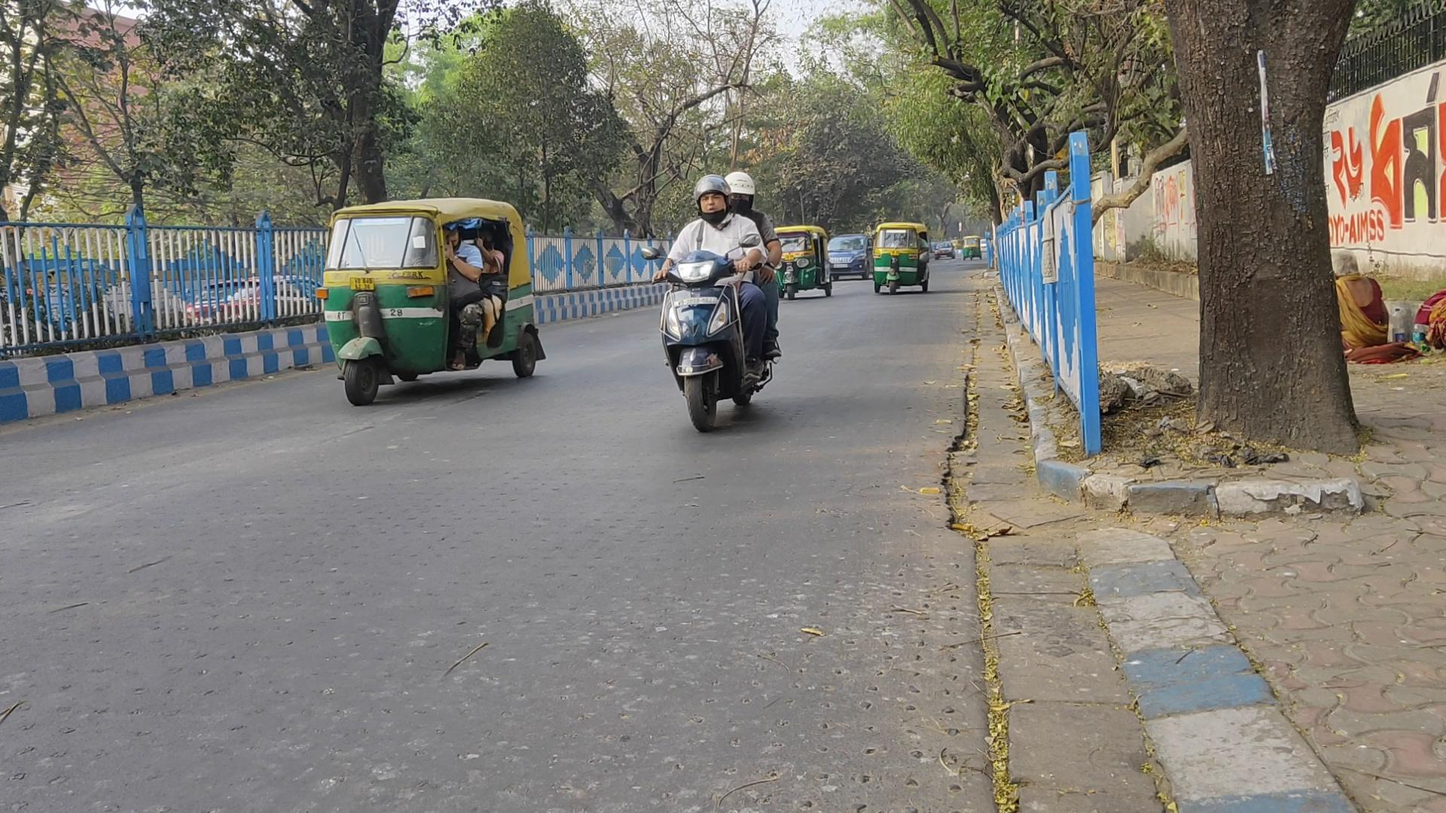Auto: (314, 194, 542, 408), (865, 218, 934, 298), (773, 223, 833, 306), (961, 235, 983, 261)
bike: (648, 172, 782, 430)
car: (828, 233, 876, 283), (934, 240, 956, 260)
